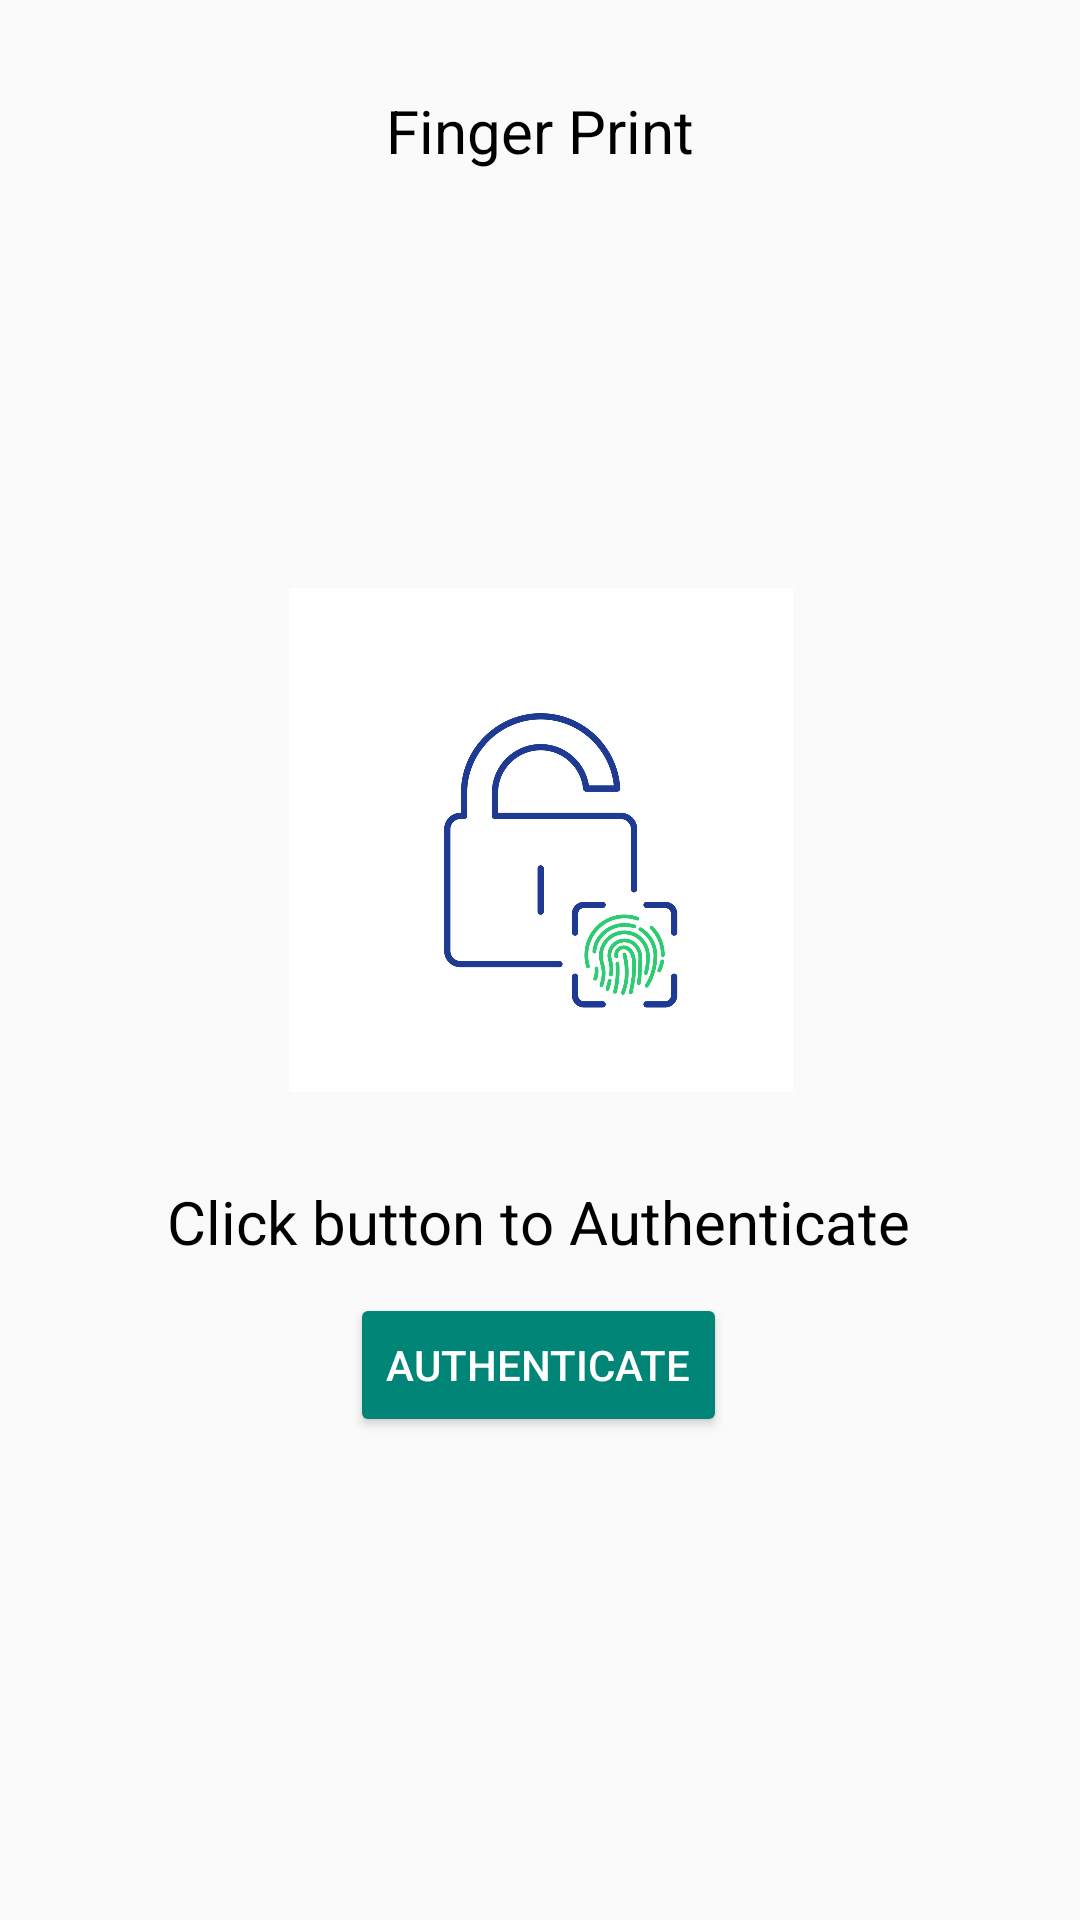

Named icons in this screenshot (1080*1920) and their centers, point (x, y):
lock: point (561, 860)
